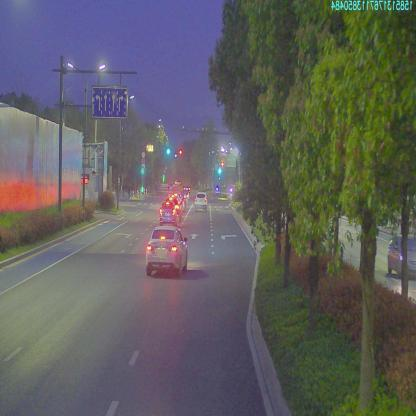traffic-light: (179, 146, 185, 158), (166, 147, 171, 154)
